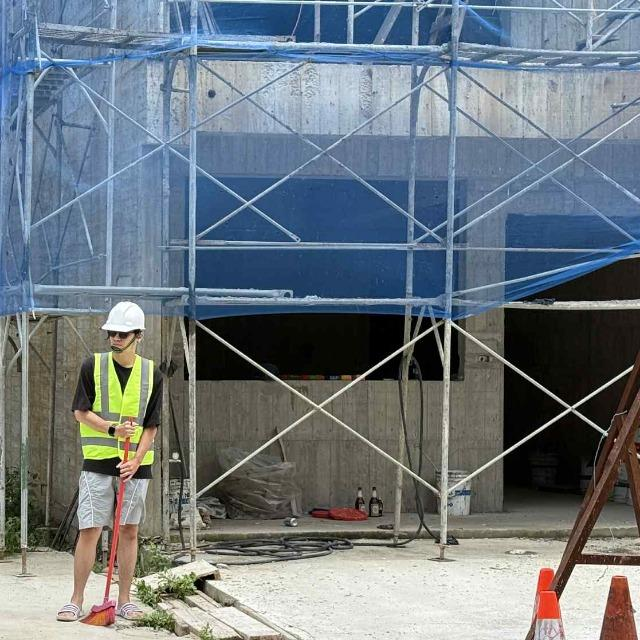Helmet: (103, 301, 151, 361)
